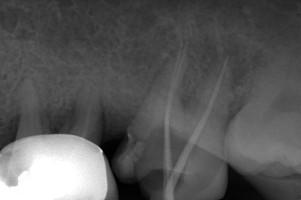Furcation Involvement: (200, 34, 264, 91)
